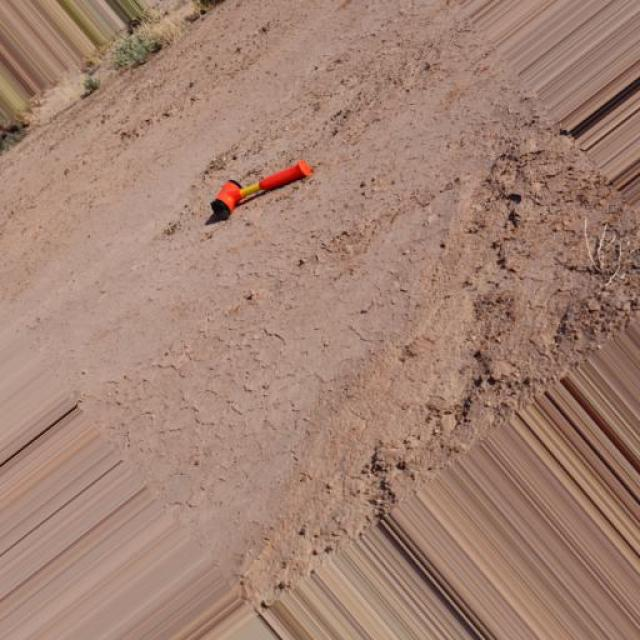mallet: (208, 158, 312, 220)
